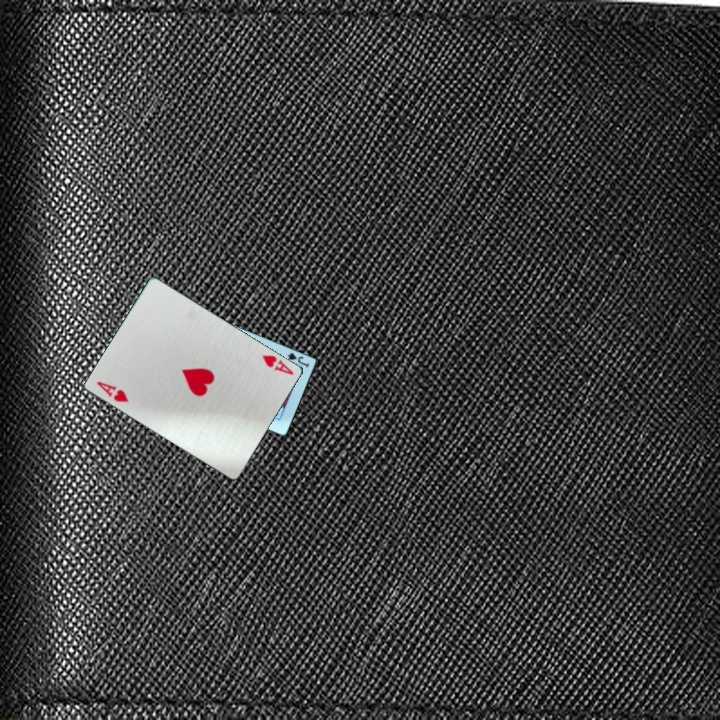Ah: (93, 377, 132, 405), (259, 351, 297, 378)
Js: (284, 349, 312, 370)
